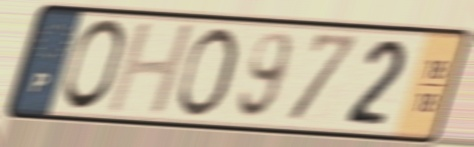2: (339, 36, 410, 129)
7: (283, 29, 362, 126)
9: (236, 30, 296, 122)
H: (102, 20, 200, 117)
O: (59, 16, 128, 115), (171, 24, 241, 121)
